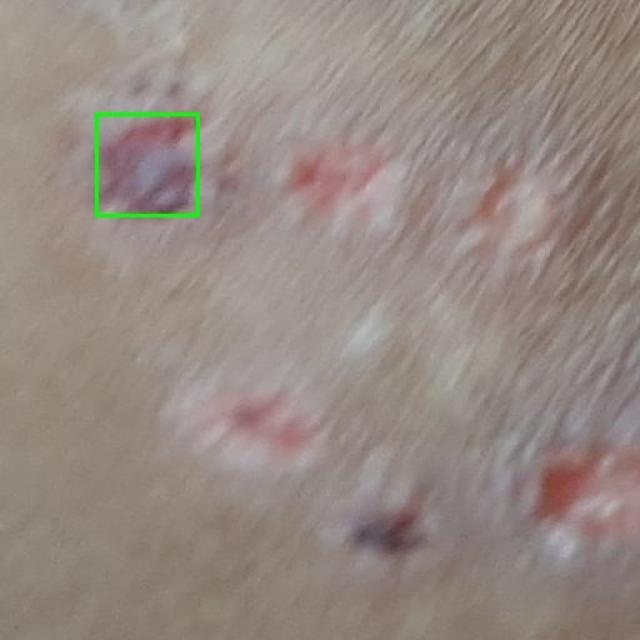Eczema: (96, 114, 198, 215)
